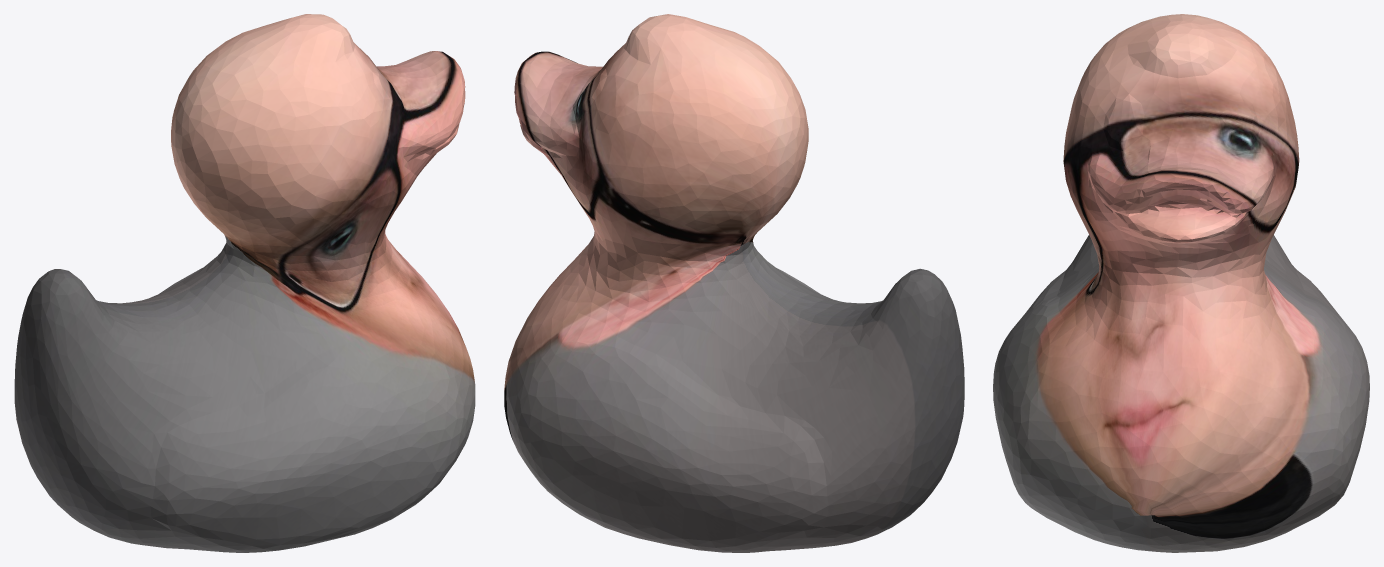
Rendered from mudry_duck.glb.
3 views of the same model, side by side, from view 1: azimuth 30°, elevation 25°; view 2: azimuth 150°, elevation 25°; view 3: azimuth 270°, elevation 25° (orthographic). The views are drawn at different scales.
Parts seen in each view (by area): view 1: base_duck; view 2: base_duck; view 3: base_duck.
Part boxes in pixels (x1,y1,x2,y2): base_duck: (14, 14, 475, 552); base_duck: (504, 14, 964, 552); base_duck: (993, 14, 1369, 552).
Bounding box in the file's own units: 1.85 × 1.89 × 1.35.
Materials: 1 (1 with a texture image).
